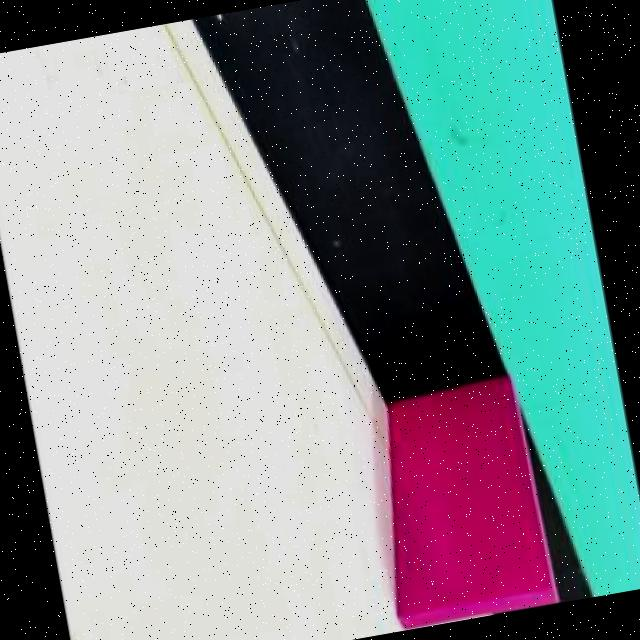xparking: (360, 381, 550, 621)
